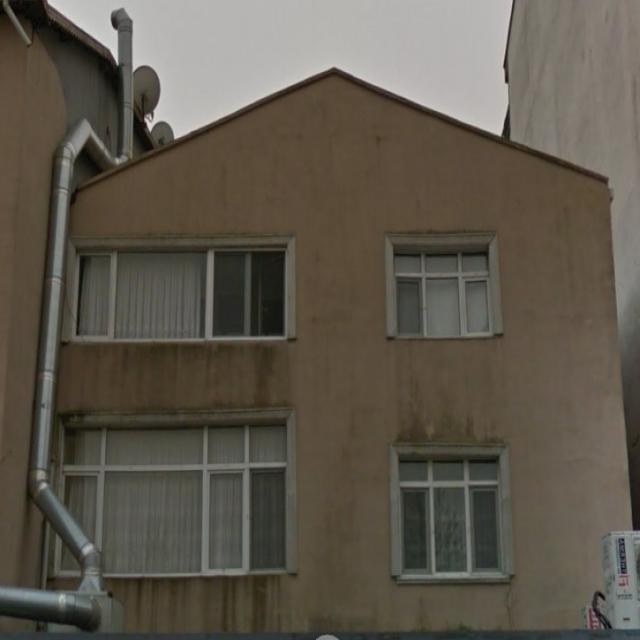Building: (46, 66, 633, 632)
